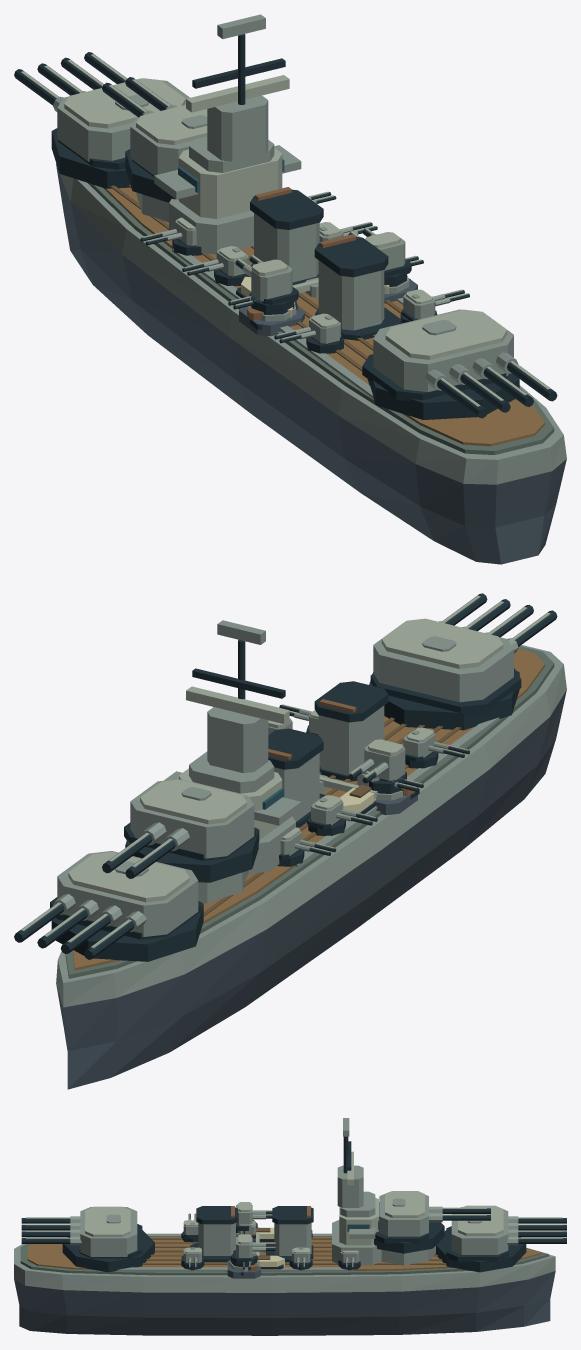
File: historic-king-george-v.glb
The picture shows the model from 3 angles, top to bottom: view 1: azimuth 30°, elevation 25°; view 2: azimuth 150°, elevation 25°; view 3: azimuth 270°, elevation 25°; orthographic projection. The views are drawn at different scales.
Parts seen in each view (by area): view 1: historic-king-george-v-historic-king-george-v-geometry, historic-king-george-v-part_bridge.014-geometry, historic-king-george-v-turret_main_2.010-geometry, historic-king-george-v-turret_main_0.011-geometry, historic-king-george-v-historic_funnel_1.006-geometry, historic-king-george-v-turret_main_1.010-geometry, historic-king-george-v-historic_funnel_0.015-geometry, historic-king-george-v-turret_aa_aa-port.016-geometry, historic-king-george-v-turret_secondary_3.003-geometry, historic-king-george-v-turret_aa_aa-starboard.014-geometry, historic-king-george-v-turret_secondary_1.004-geometry, historic-king-george-v-turret_secondary_7.003-geometry (+2 smaller); view 2: historic-king-george-v-historic-king-george-v-geometry, historic-king-george-v-turret_main_2.010-geometry, historic-king-george-v-turret_main_0.011-geometry, historic-king-george-v-part_bridge.014-geometry, historic-king-george-v-turret_main_1.010-geometry, historic-king-george-v-historic_funnel_1.006-geometry, historic-king-george-v-historic_funnel_0.015-geometry, historic-king-george-v-turret_aa_aa-port.016-geometry, historic-king-george-v-turret_secondary_1.004-geometry, historic-king-george-v-turret_secondary_3.003-geometry, historic-king-george-v-turret_secondary_0.004-geometry, historic-king-george-v-part_aa-port.016-geometry; view 3: historic-king-george-v-historic-king-george-v-geometry, historic-king-george-v-turret_main_2.010-geometry, historic-king-george-v-turret_main_0.011-geometry, historic-king-george-v-turret_main_1.010-geometry, historic-king-george-v-part_bridge.014-geometry, historic-king-george-v-historic_funnel_1.006-geometry, historic-king-george-v-historic_funnel_0.015-geometry, historic-king-george-v-turret_aa_aa-starboard.014-geometry, historic-king-george-v-turret_aa_aa-port.016-geometry, historic-king-george-v-turret_secondary_5.003-geometry, historic-king-george-v-turret_secondary_7.003-geometry, historic-king-george-v-turret_secondary_4.003-geometry (+2 smaller).
Boxes of the visible parts, x1,y1,x2,y2 form: historic-king-george-v-historic-king-george-v-geometry: [56, 164, 566, 564]; historic-king-george-v-part_bridge.014-geometry: [154, 14, 301, 254]; historic-king-george-v-turret_main_2.010-geometry: [362, 309, 557, 419]; historic-king-george-v-turret_main_0.011-geometry: [14, 52, 189, 188]; historic-king-george-v-historic_funnel_1.006-geometry: [314, 234, 401, 340]; historic-king-george-v-turret_main_1.010-geometry: [102, 77, 207, 202]; historic-king-george-v-historic_funnel_0.015-geometry: [250, 187, 323, 285]; historic-king-george-v-turret_aa_aa-port.016-geometry: [235, 255, 298, 314]; historic-king-george-v-turret_secondary_3.003-geometry: [274, 313, 343, 353]; historic-king-george-v-turret_aa_aa-starboard.014-geometry: [348, 227, 411, 286]; historic-king-george-v-turret_secondary_1.004-geometry: [182, 246, 249, 286]; historic-king-george-v-turret_secondary_7.003-geometry: [400, 289, 469, 323]; historic-king-george-v-historic-king-george-v-geometry: [56, 645, 566, 1089]; historic-king-george-v-turret_main_2.010-geometry: [369, 593, 557, 730]; historic-king-george-v-turret_main_0.011-geometry: [14, 851, 203, 961]; historic-king-george-v-part_bridge.014-geometry: [164, 620, 301, 873]; historic-king-george-v-turret_main_1.010-geometry: [102, 779, 259, 882]; historic-king-george-v-historic_funnel_1.006-geometry: [314, 681, 388, 781]; historic-king-george-v-historic_funnel_0.015-geometry: [268, 728, 324, 827]; historic-king-george-v-turret_aa_aa-port.016-geometry: [348, 739, 406, 793]; historic-king-george-v-turret_secondary_1.004-geometry: [307, 795, 377, 835]; historic-king-george-v-turret_secondary_3.003-geometry: [403, 727, 469, 768]; historic-king-george-v-turret_secondary_0.004-geometry: [277, 827, 336, 866]; historic-king-george-v-part_aa-port.016-geometry: [373, 786, 417, 815]; historic-king-george-v-historic-king-george-v-geometry: [14, 1227, 555, 1335]; historic-king-george-v-turret_main_2.010-geometry: [21, 1206, 154, 1272]; historic-king-george-v-turret_main_0.011-geometry: [435, 1205, 566, 1272]; historic-king-george-v-turret_main_1.010-geometry: [374, 1191, 490, 1253]; historic-king-george-v-part_bridge.014-geometry: [332, 1118, 381, 1265]; historic-king-george-v-historic_funnel_1.006-geometry: [190, 1206, 237, 1262]; historic-king-george-v-historic_funnel_0.015-geometry: [266, 1206, 313, 1262]; historic-king-george-v-turret_aa_aa-starboard.014-geometry: [230, 1234, 275, 1267]; historic-king-george-v-turret_aa_aa-port.016-geometry: [236, 1202, 272, 1234]; historic-king-george-v-turret_secondary_5.003-geometry: [289, 1247, 312, 1270]; historic-king-george-v-turret_secondary_7.003-geometry: [181, 1247, 204, 1270]; historic-king-george-v-turret_secondary_4.003-geometry: [338, 1250, 360, 1270].
Size of the model in its own units: 1.13 by 1.92 by 4.89.
